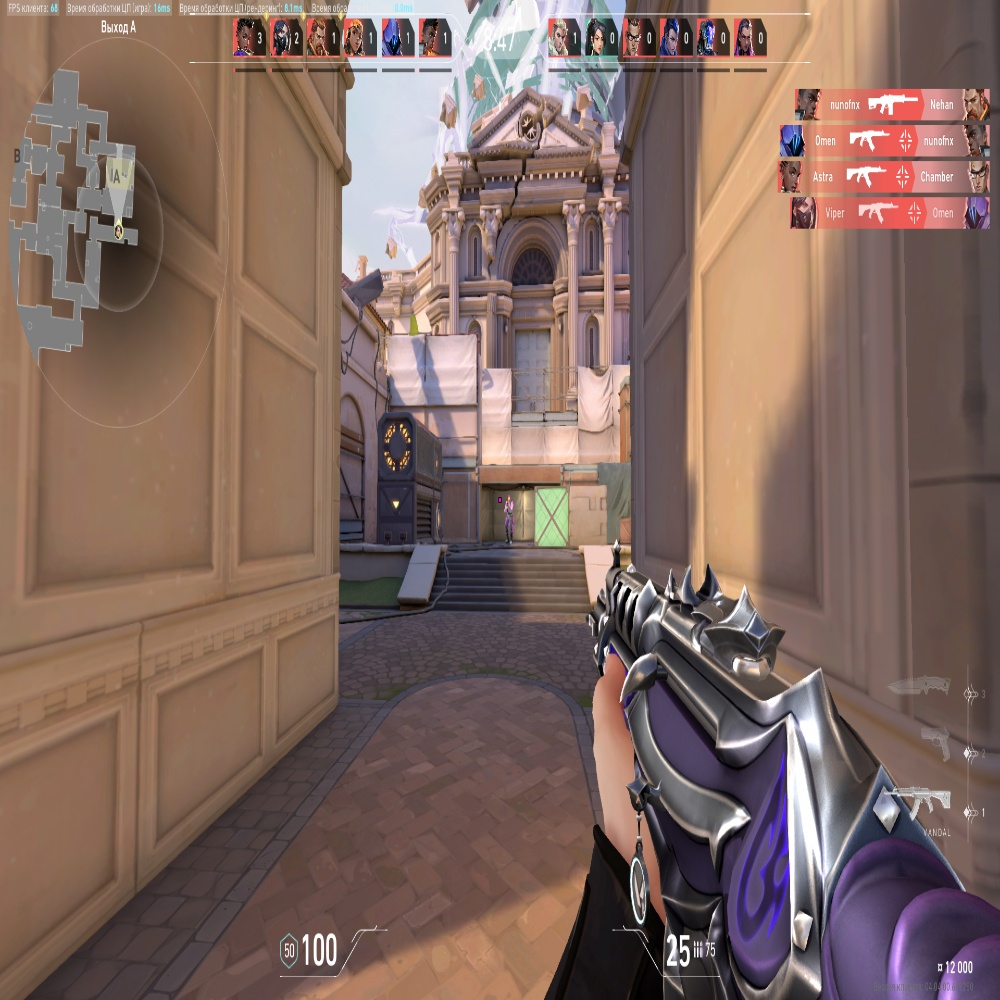body: (505, 503, 513, 520)
head: (507, 495, 510, 502)
